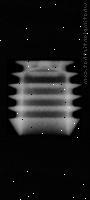Bicon: (6, 57, 82, 135)
